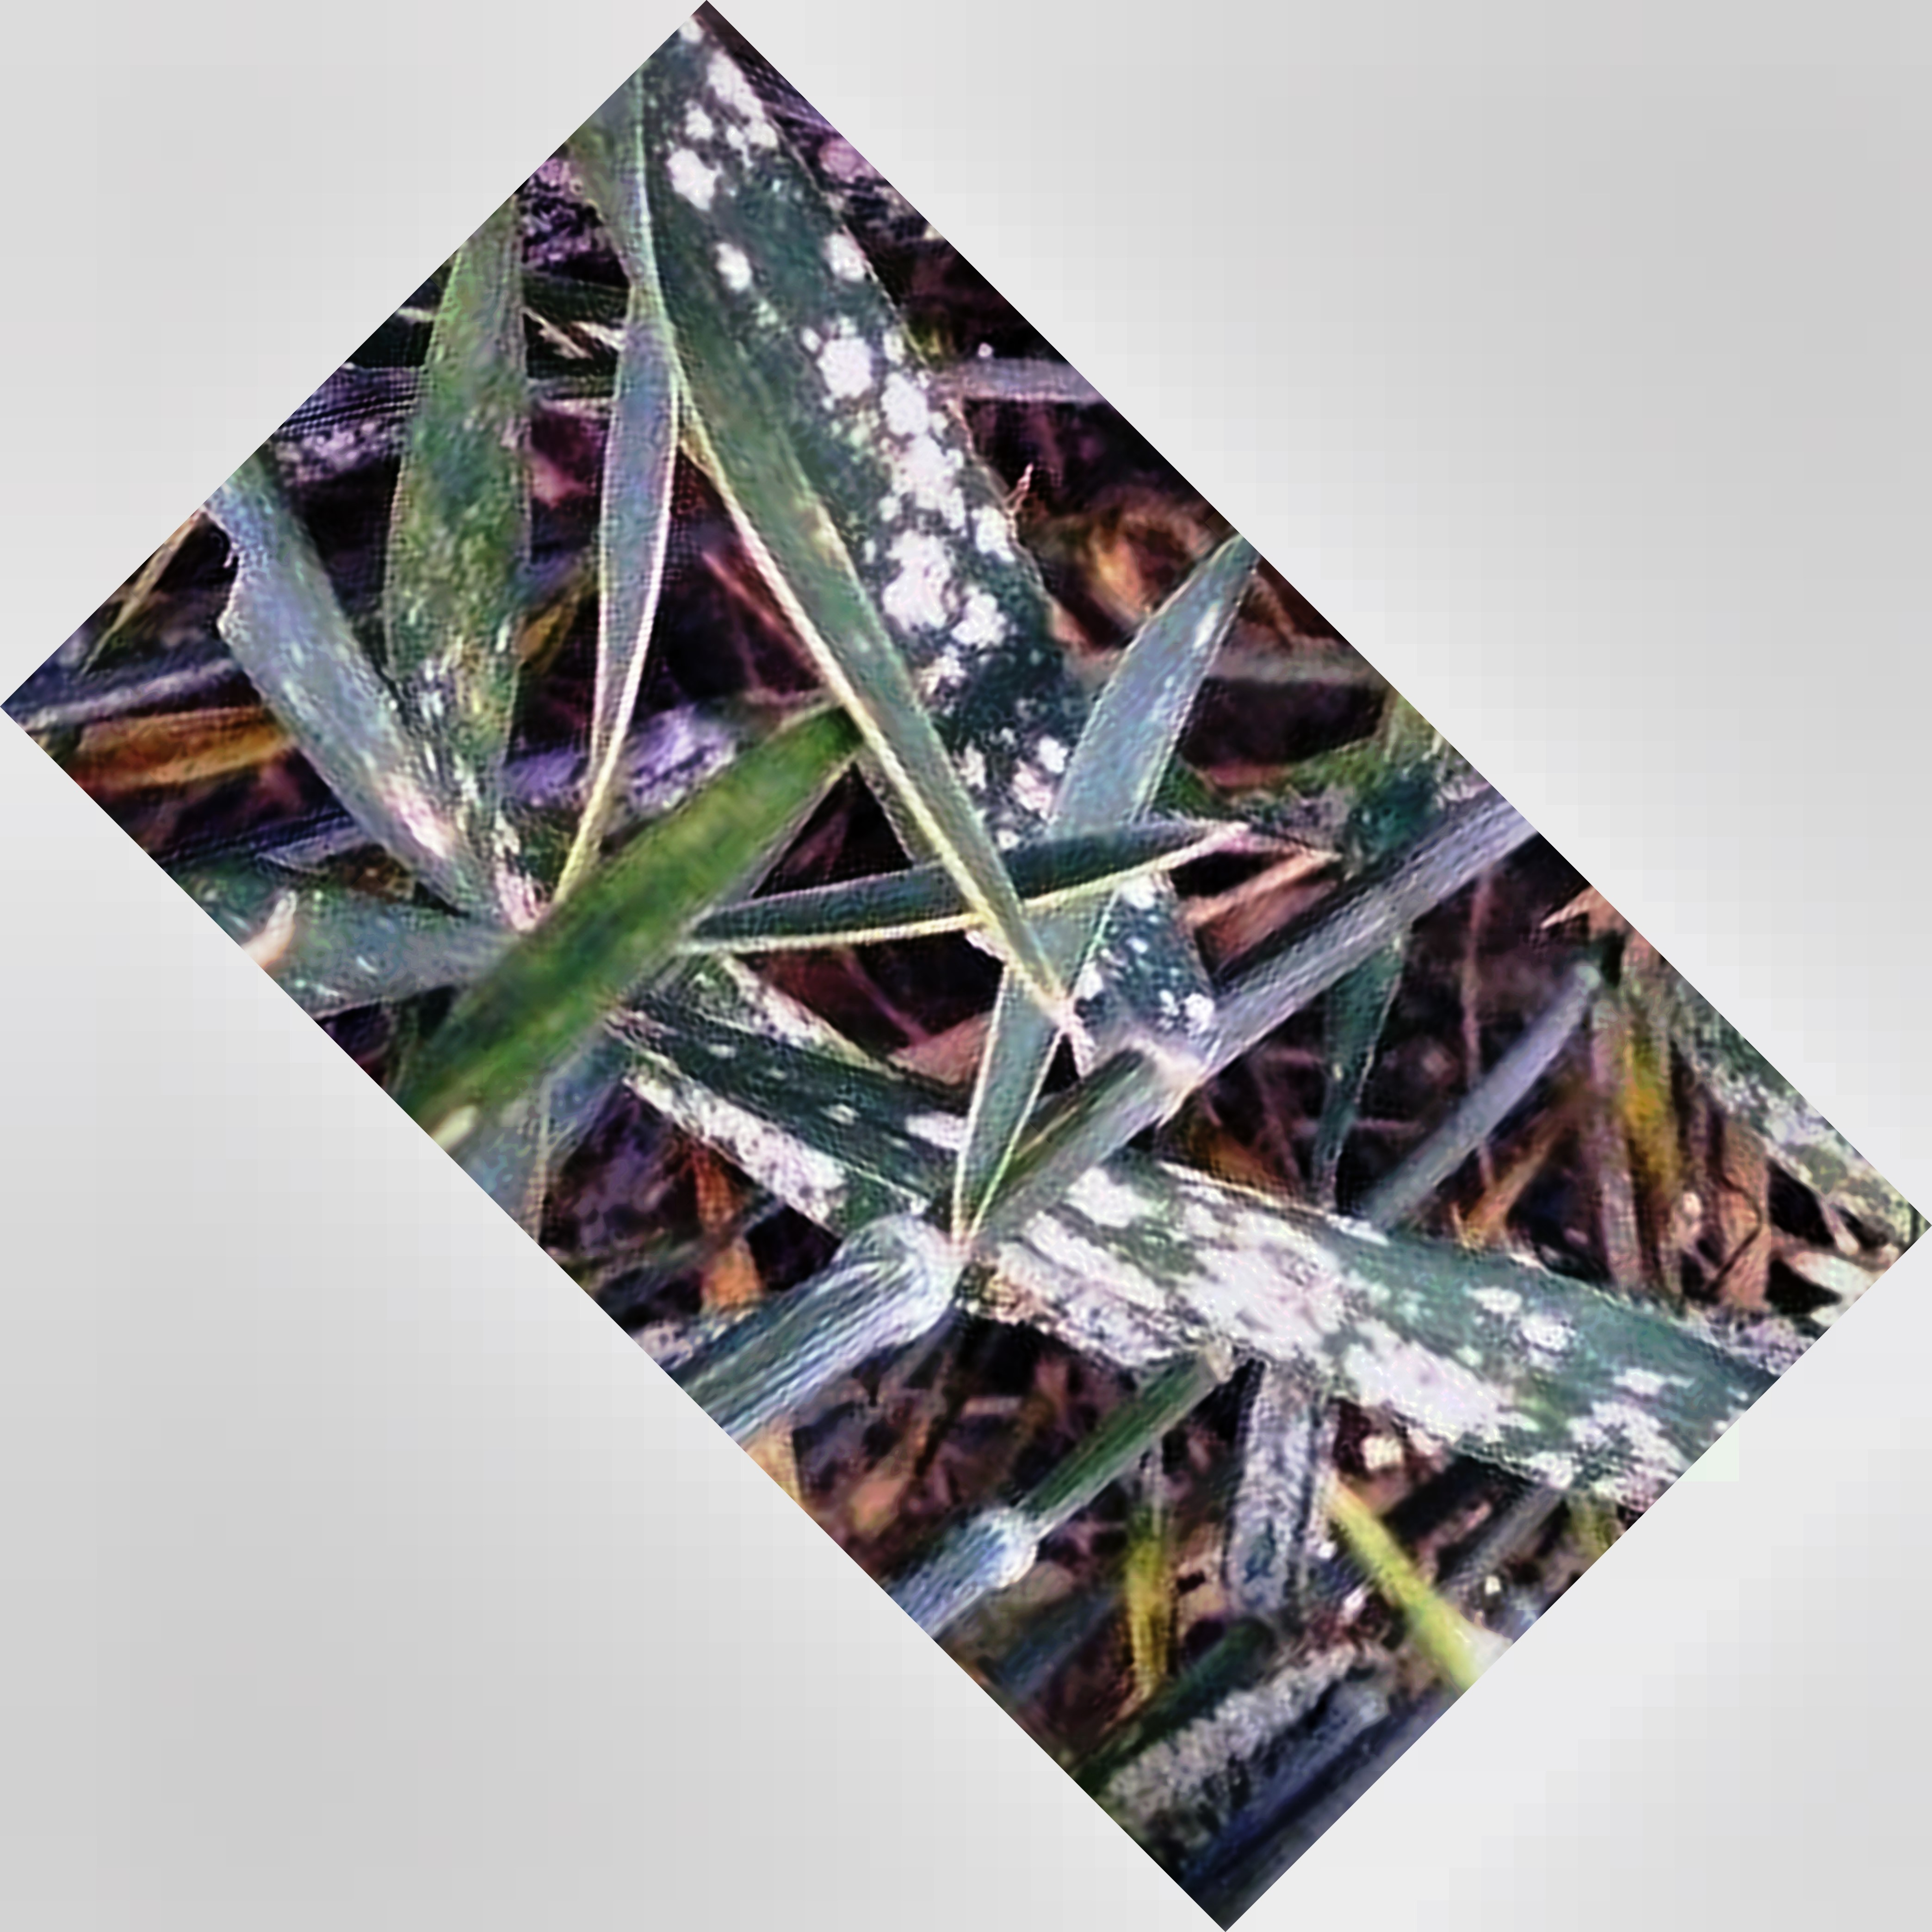Powdery Mildew: (672, 69, 1109, 832)
